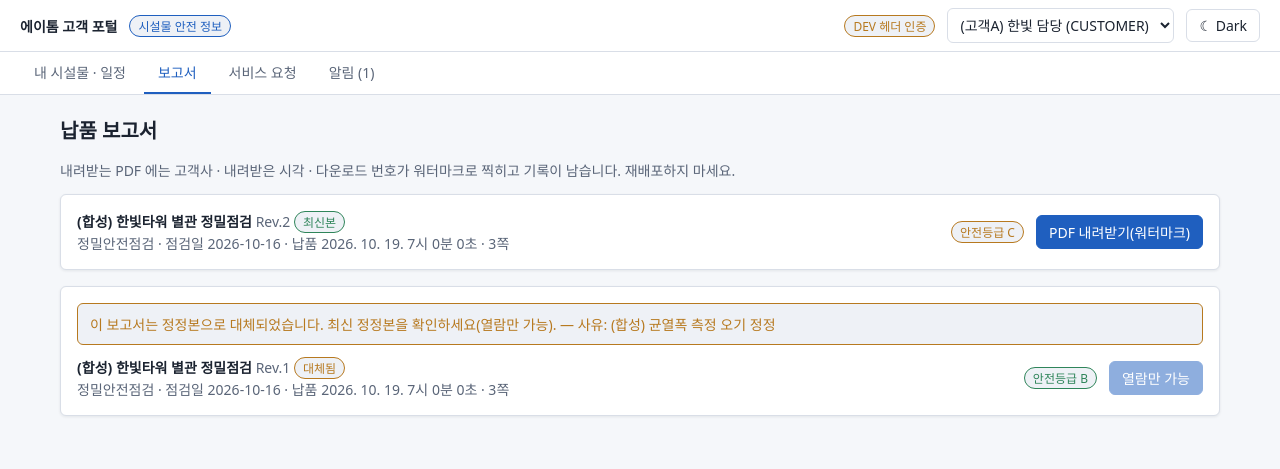
고객 포털 › 보고서: 대체본 배너 · 열람만, 최신본 워터마크 다운로드(X-Download-Id)
Expected: the message with test id "ptl-superseded-banner" shows "정정본으로 대체", [90, 315, 556, 334]
Expected: the message with test id "ptl-superseded-banner" shows "균열폭 측정 오기 정정", [611, 315, 776, 334]
Click the button with aria-label "Rev.2" at coordinates (1120, 232), box [1036, 215, 1203, 249]
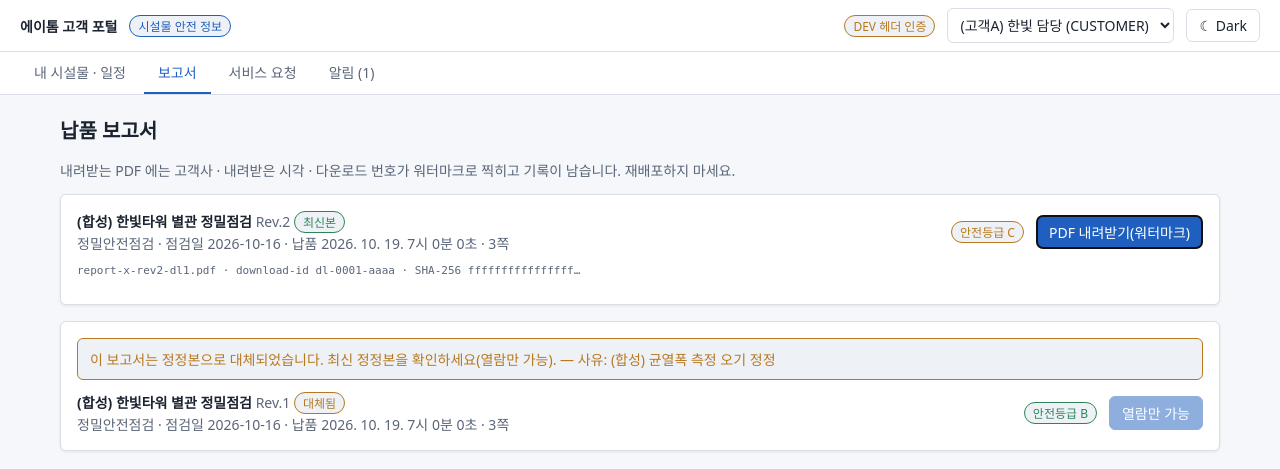
Expected: the text with test id "ptl-download-info" shows "download-id dl-0001-aaaa", [77, 264, 580, 277]
